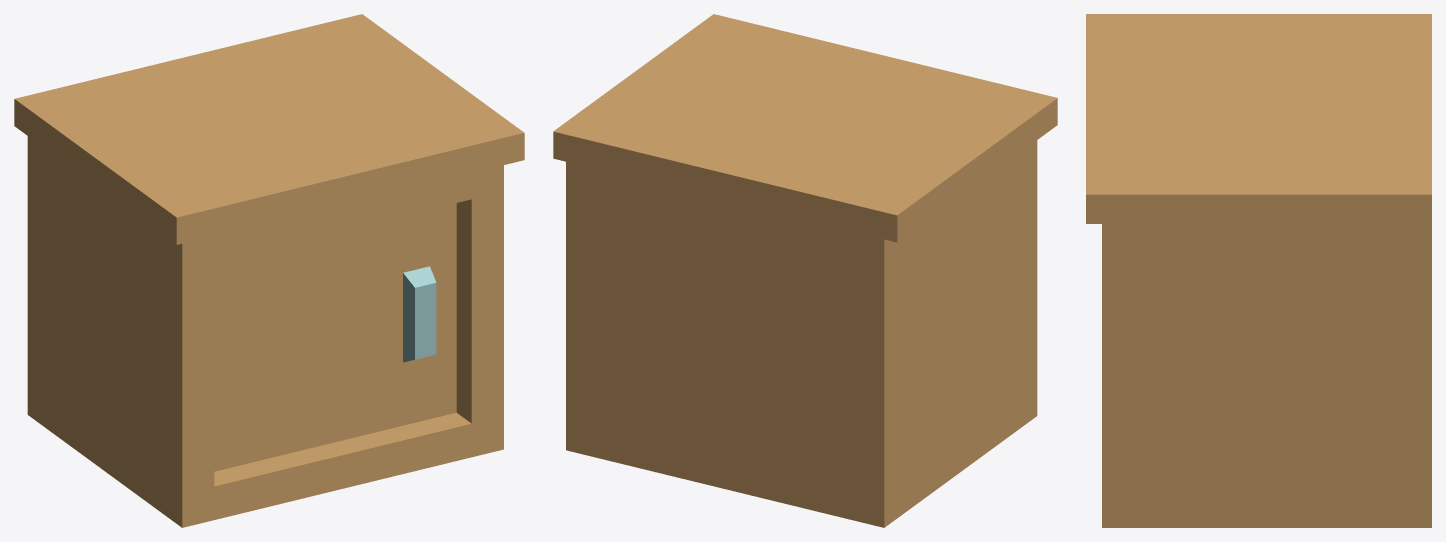
File: cabinetBed.glb
3 renders of one model, left to right at view 1: azimuth 30°, elevation 25°; view 2: azimuth 150°, elevation 25°; view 3: azimuth 270°, elevation 25°, orthographic. The views are drawn at different scales.
Visible parts, largest first — view 1: cabinetBed, door 1; view 2: cabinetBed; view 3: cabinetBed.
Boxes of the visible parts, x1=… form: cabinetBed: x1=14, y1=14, x2=524, y2=527; door 1: x1=214, y1=203, x2=456, y2=471; cabinetBed: x1=553, y1=14, x2=1057, y2=527; cabinetBed: x1=1086, y1=14, x2=1431, y2=527.
Bounding box in the file's own units: 0.4788 × 0.4198 × 0.387.
